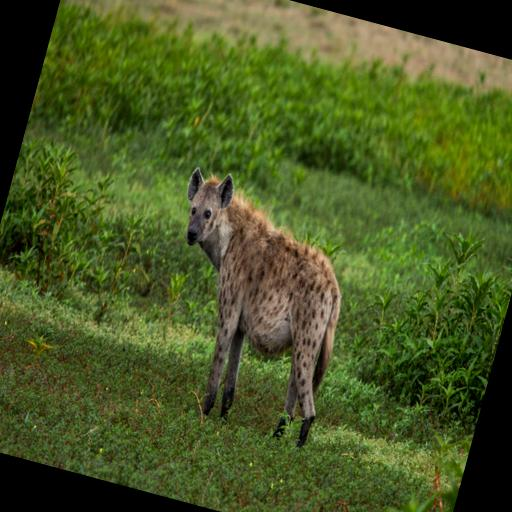hyenas: (88, 151, 384, 467)
